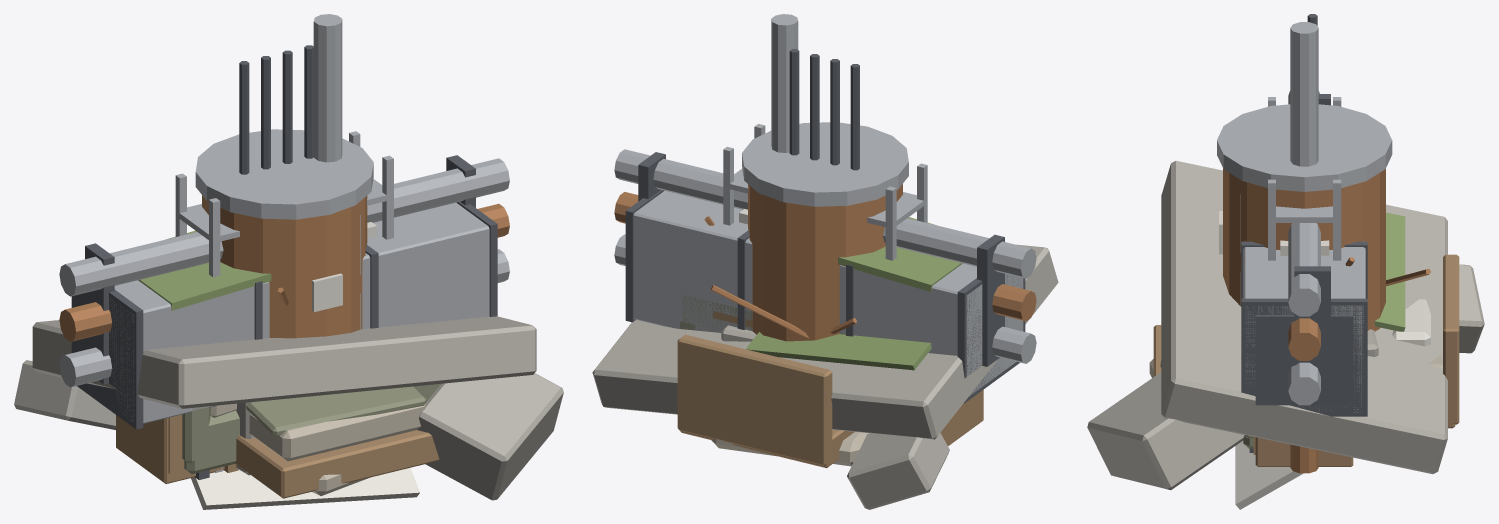
The model's file is InteriorProps.fbx.
The picture shows the model from 3 angles, left to right: view 1: azimuth 30°, elevation 25°; view 2: azimuth 150°, elevation 25°; view 3: azimuth 270°, elevation 25°; orthographic projection. The views are drawn at different scales.
Visible parts, largest first — view 1: RebarSlab_Slab_Concrete, VentDuct_Duct_Metal, Boiler_Tank_Rust, RebarSlab_Chunk_Concrete, Boiler_Cap_Metal, PipeWall_Pipe2_Metal, Bed_Frame_Wood, CeilingPanel_Tile_White, VentDuct_Seam-4.9_Dark, Bed_Blanket_Fabric, Bed_Mattress_Cloth, Boiler_PipeUp_Metal (+20 smaller); view 2: VentDuct_Duct_Metal, RebarSlab_Slab_Concrete, Bed_Headboard_Wood, Boiler_Tank_Rust, Boiler_Cap_Metal, PipeWall_Pipe2_Metal, RebarSlab_Chunk2_Concrete, RebarSlab_Moss_Moss, Boiler_PipeUp_Metal, VentDuct_Moss_Moss, PipeWall_Clamp-5_Dark, VentDuct_Seam-4.9_Dark (+19 smaller); view 3: RebarSlab_Slab_Concrete, Boiler_Cap_Metal, Boiler_Tank_Rust, RebarSlab_Chunk_Concrete, VentDuct_Grille_Dark, VentDuct_Duct_Metal, VentDuct_Seam4.9_Dark, Boiler_PipeUp_Metal, PipeWall_Pipe2_Metal, Bed_Headboard_Wood, RebarSlab_Moss_Moss, CeilingPanel_Tile_White (+12 smaller).
Part boxes in pixels (box(x1,y1,x2,y2)): RebarSlab_Slab_Concrete: box(32, 316, 536, 408); VentDuct_Duct_Metal: box(109, 202, 489, 423); Boiler_Tank_Rust: box(202, 195, 367, 338); RebarSlab_Chunk_Concrete: box(417, 373, 563, 500); Boiler_Cap_Metal: box(195, 129, 373, 219); PipeWall_Pipe2_Metal: box(59, 158, 509, 296); Bed_Frame_Wood: box(235, 430, 439, 498); CeilingPanel_Tile_White: box(191, 467, 419, 509); VentDuct_Seam-4.9_Dark: box(71, 290, 143, 429); Bed_Blanket_Fabric: box(246, 386, 426, 436); Bed_Mattress_Cloth: box(249, 403, 426, 461); Boiler_PipeUp_Metal: box(313, 14, 342, 162); VentDuct_Duct_Metal: box(633, 191, 1023, 395); RebarSlab_Slab_Concrete: box(592, 244, 1058, 439); Bed_Headboard_Wood: box(677, 334, 832, 465); Boiler_Tank_Rust: box(748, 184, 902, 341); Boiler_Cap_Metal: box(742, 122, 908, 206); PipeWall_Pipe2_Metal: box(614, 149, 1036, 278); RebarSlab_Chunk2_Concrete: box(847, 433, 949, 509); RebarSlab_Moss_Moss: box(746, 332, 931, 370); Boiler_PipeUp_Metal: box(771, 14, 798, 152); VentDuct_Moss_Moss: box(838, 217, 962, 291); PipeWall_Clamp-5_Dark: box(977, 234, 1004, 366); VentDuct_Seam-4.9_Dark: box(957, 274, 1025, 403); RebarSlab_Slab_Concrete: box(1161, 160, 1447, 474); Boiler_Cap_Metal: box(1217, 104, 1392, 191); Boiler_Tank_Rust: box(1223, 168, 1385, 331); RebarSlab_Chunk_Concrete: box(1087, 372, 1244, 489); VentDuct_Grille_Dark: box(1255, 315, 1353, 405); VentDuct_Duct_Metal: box(1243, 241, 1365, 412); VentDuct_Seam4.9_Dark: box(1241, 298, 1367, 416); Boiler_PipeUp_Metal: box(1290, 22, 1318, 166); PipeWall_Pipe2_Metal: box(1288, 90, 1320, 316); Bed_Headboard_Wood: box(1443, 254, 1459, 424); RebarSlab_Moss_Moss: box(1374, 212, 1405, 331); CeilingPanel_Tile_White: box(1235, 441, 1303, 509).
Bounding box in the file's own units: 12 × 12.33 × 9.75.
